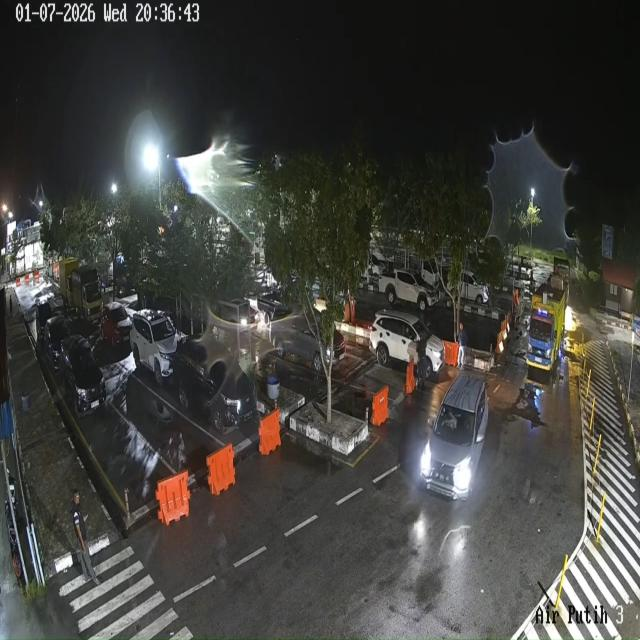Golongan IVA: (420, 374, 489, 499), (173, 338, 256, 432), (369, 310, 445, 378), (270, 313, 346, 374), (60, 334, 106, 416), (130, 309, 178, 385), (42, 314, 70, 370), (101, 301, 132, 347), (35, 301, 54, 344)
Golongan IVB: (378, 270, 439, 311)
Golongan VB: (527, 274, 568, 372), (59, 257, 102, 322)
